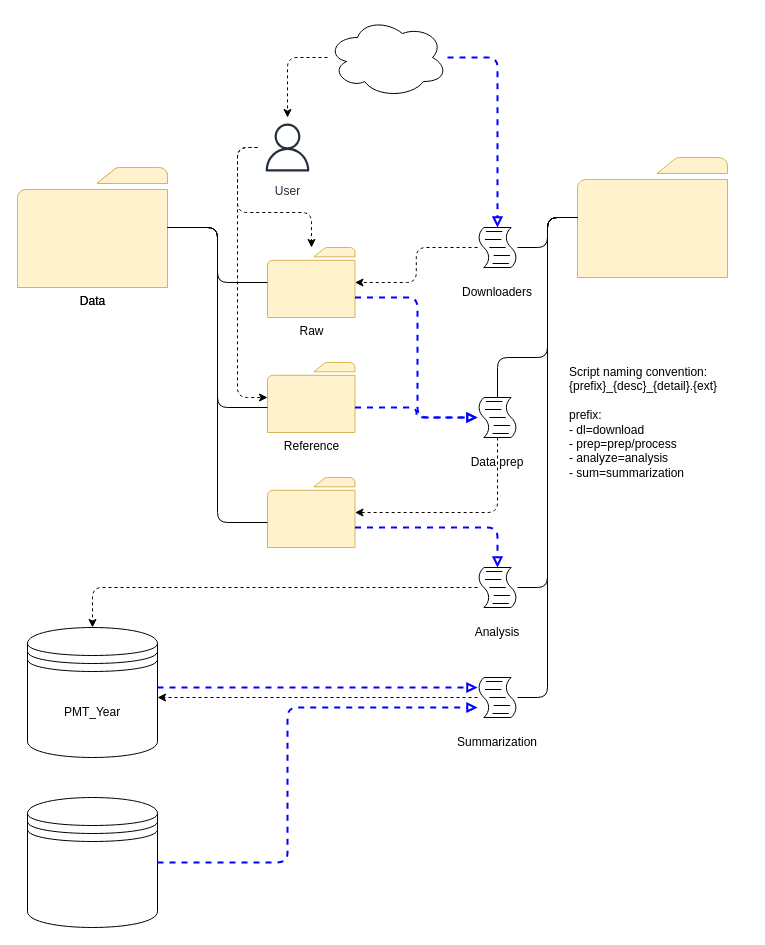
Some shapes in this 765 by 945 pixel diagram are drawn without their labels. The shapes that lost their labels are listed below. From the top down, each one's box as (x1, y1, x2, y2) in pixels, then its label:
(576, 156, 728, 278): Scripts
(266, 476, 355, 548): Cleaned
(26, 796, 158, 928): Basic_features
